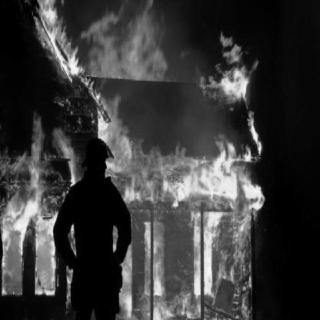Fire: (4, 1, 270, 318)
